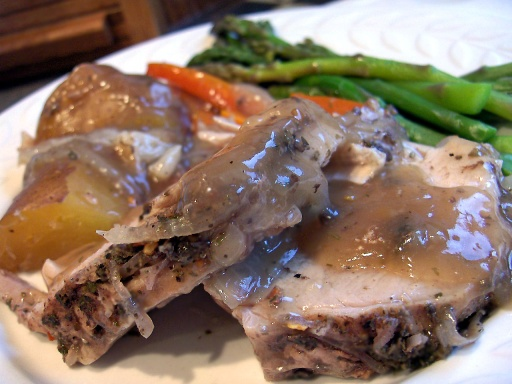background: (0, 8, 410, 229)
